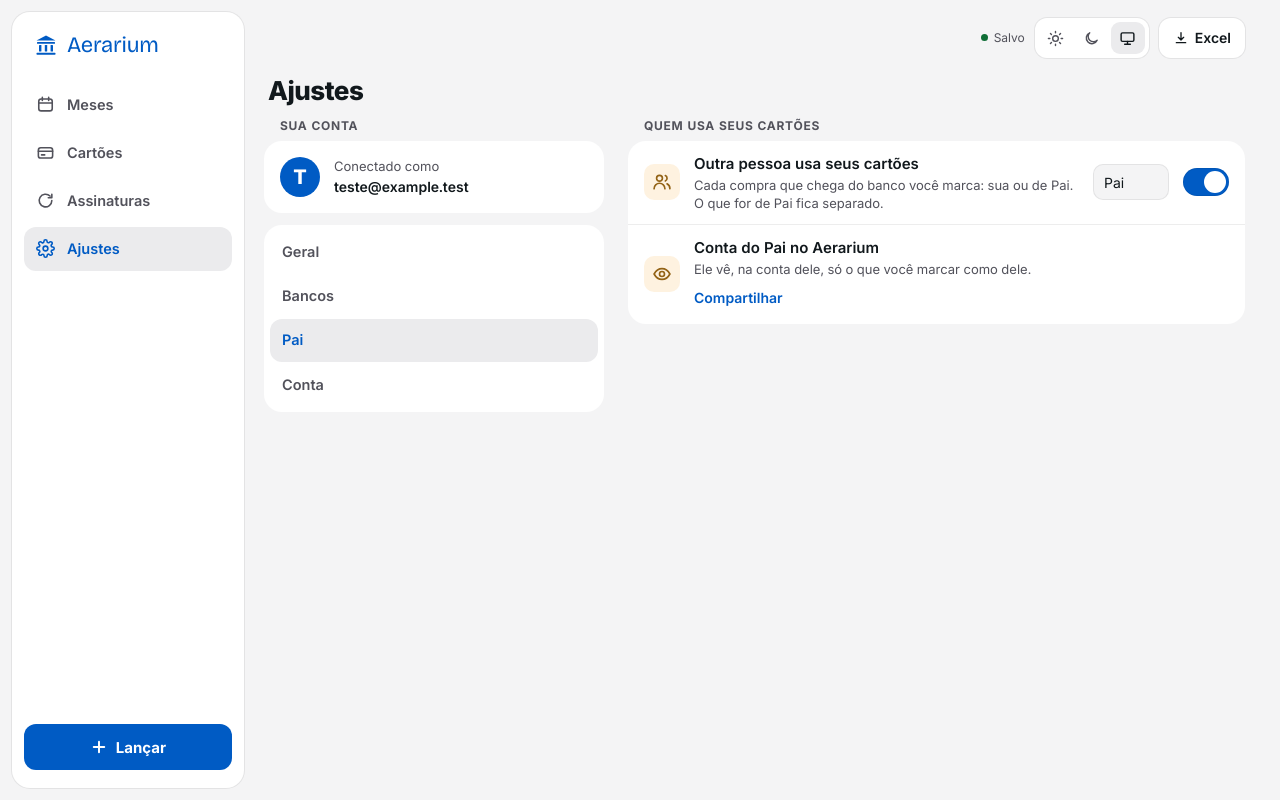
Test: do lado do dono › e-mail sem conta no Aerarium: avisa pra ele criar primeiro
Click the button "Compartilhar" at (738, 298), box 694,284 -> 783,312
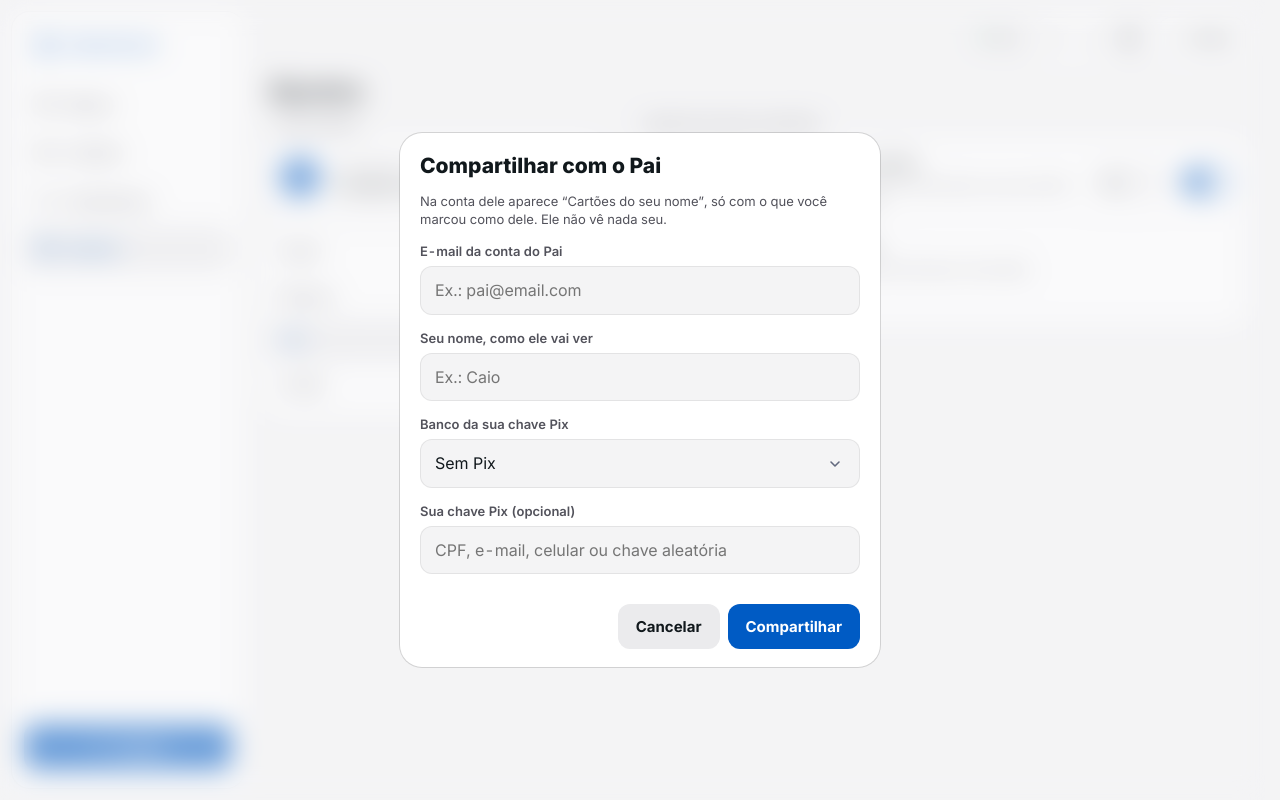
Type "ninguem@example.test" into the field labelled "E-mail da conta do Pai" at (640, 290), box 420,266 -> 860,315
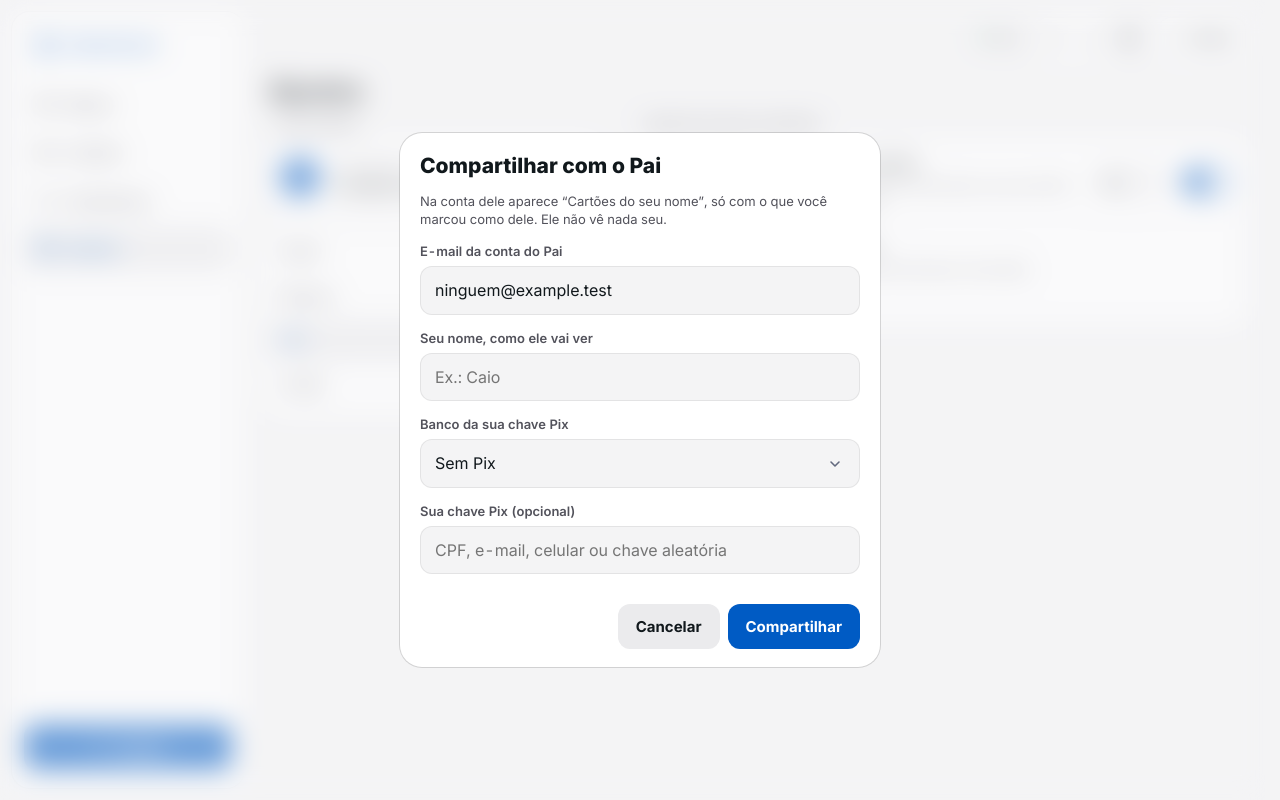
Type "Caio" into the field labelled "Seu nome, como ele vai ver" at (640, 377), box 420,353 -> 860,401
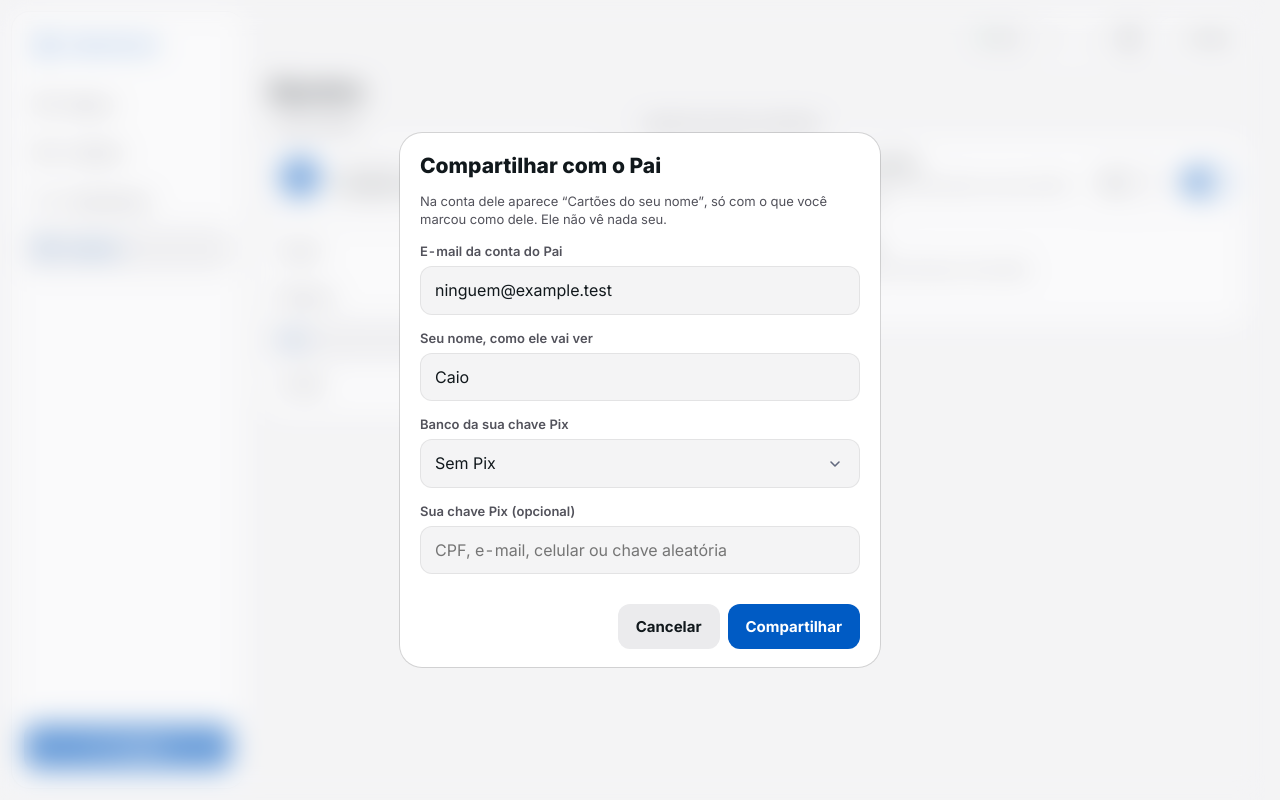
Click the button "Compartilhar" at (794, 627), box 728,604 -> 860,649
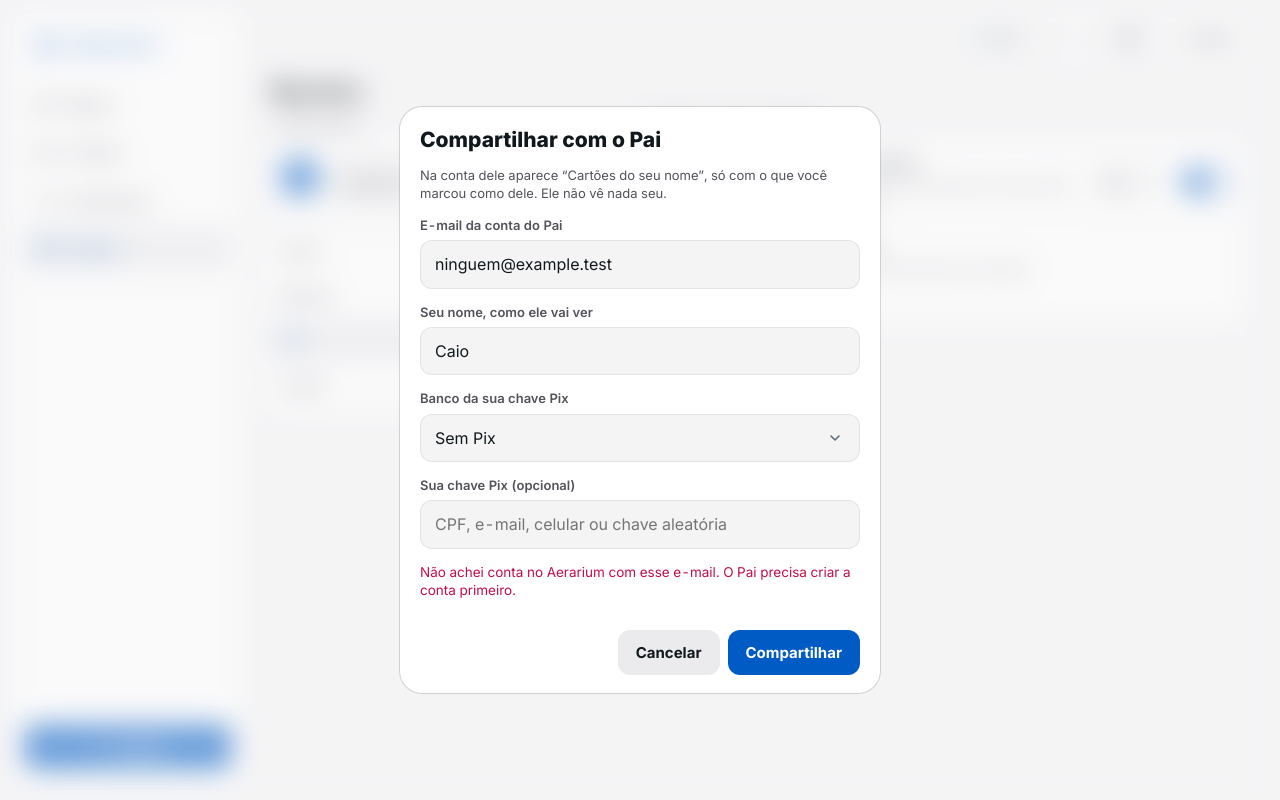
Now the text "O Pai precisa criar a conta primeiro" is shown, box 420,564 -> 851,598
